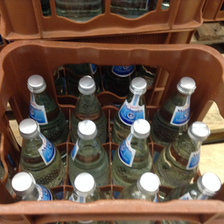water: (154, 120, 210, 191), (17, 118, 63, 183), (68, 119, 109, 185), (109, 75, 154, 134), (109, 119, 151, 182), (69, 75, 109, 141), (24, 72, 64, 135), (152, 77, 194, 133)
